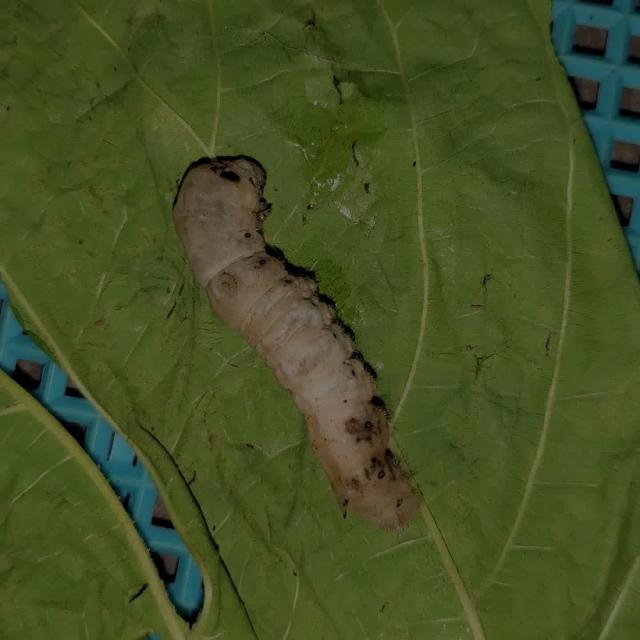Grasserie: (166, 146, 421, 536)
